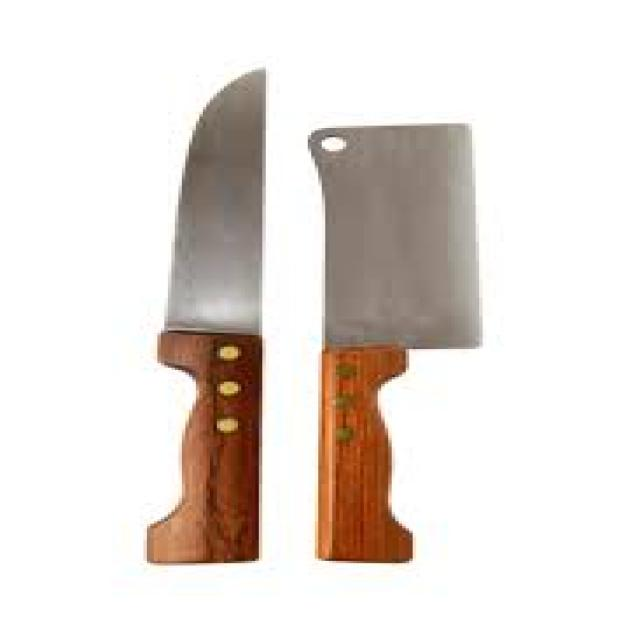Knife: (304, 121, 483, 563), (143, 65, 266, 563)
